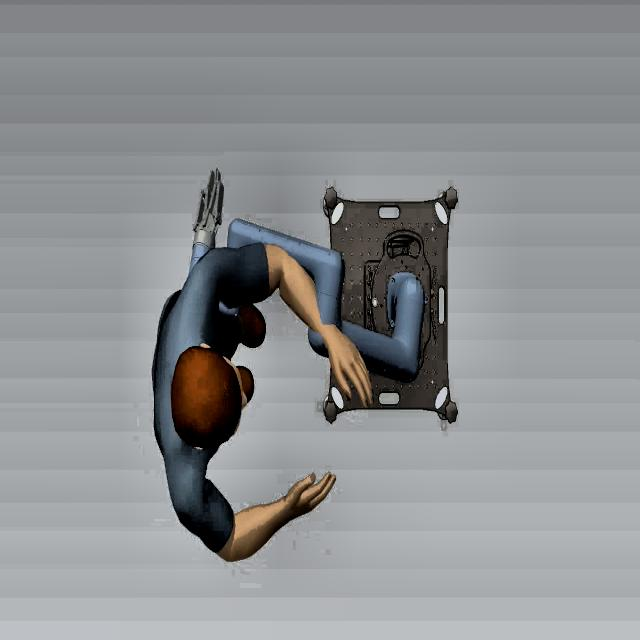robot: (187, 169, 430, 391)
